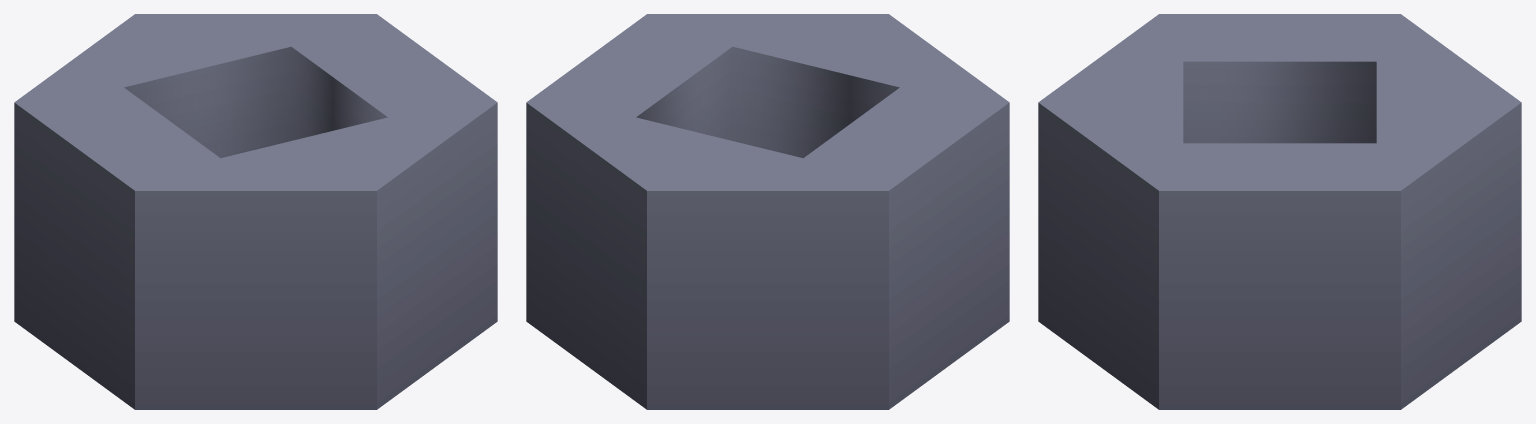
Rendered from debris-nut.glb.
The picture shows the model from 3 angles, left to right: view 1: azimuth 30°, elevation 25°; view 2: azimuth 150°, elevation 25°; view 3: azimuth 270°, elevation 25°; orthographic projection.
Parts seen in each view (by area): view 1: debris-nut; view 2: debris-nut; view 3: debris-nut.
Part boxes in pixels (x1,y1,x2,y2): debris-nut: [14, 14, 497, 409]; debris-nut: [526, 14, 1009, 409]; debris-nut: [1038, 14, 1521, 409].
Bounding box in the file's own units: 0.1732 × 0.1 × 0.2.
1 material, 1 textured.
